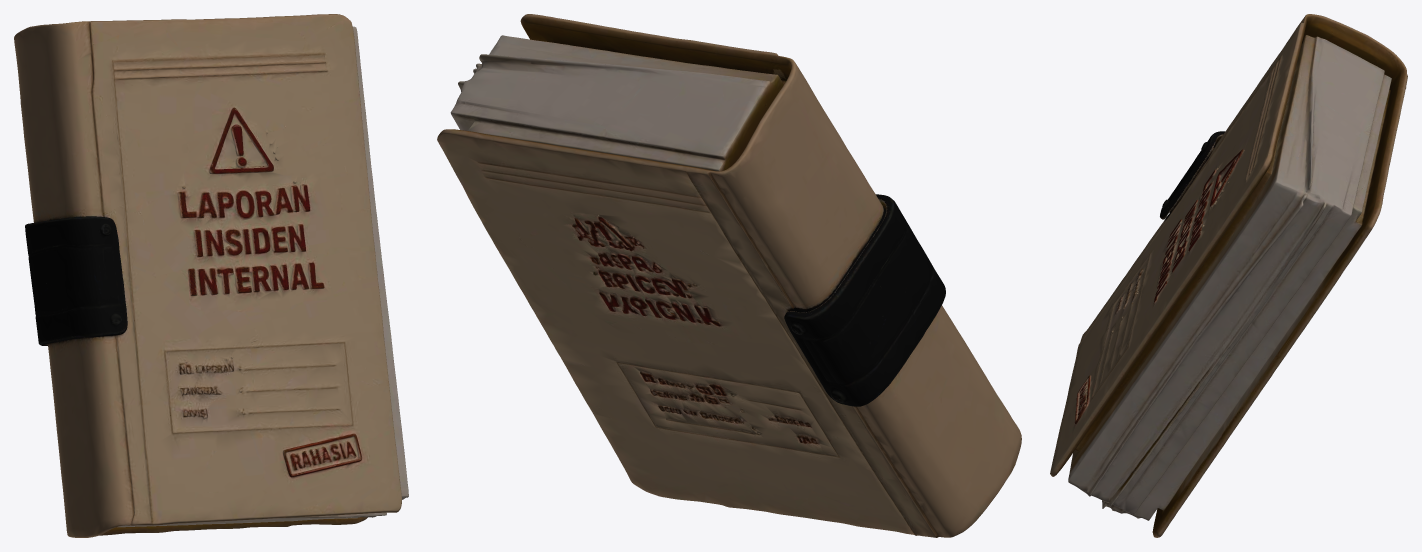
The model's file is tripo_convert_2389b580-f836-46ea-9dcc-b36d590702c3.fbx.
The picture shows the model from 3 angles, left to right: view 1: azimuth 30°, elevation 25°; view 2: azimuth 150°, elevation 25°; view 3: azimuth 270°, elevation 25°; orthographic projection. The views are drawn at different scales.
Visible parts, largest first — view 1: tripo_node_2389b580; view 2: tripo_node_2389b580; view 3: tripo_node_2389b580.
Part boxes in pixels (x1,y1,x2,y2): tripo_node_2389b580: (14,14,408,537); tripo_node_2389b580: (437,14,1021,537); tripo_node_2389b580: (1050,14,1407,537).
Size of the model in its own units: 77.55 by 74.73 by 100.
1 material, 1 textured.
